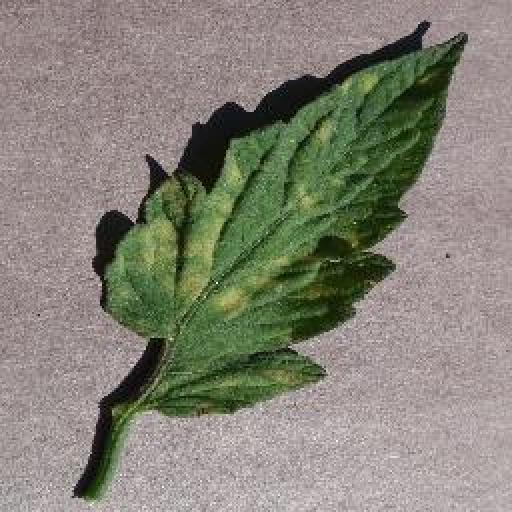disease_tomato: (102, 30, 466, 422)
